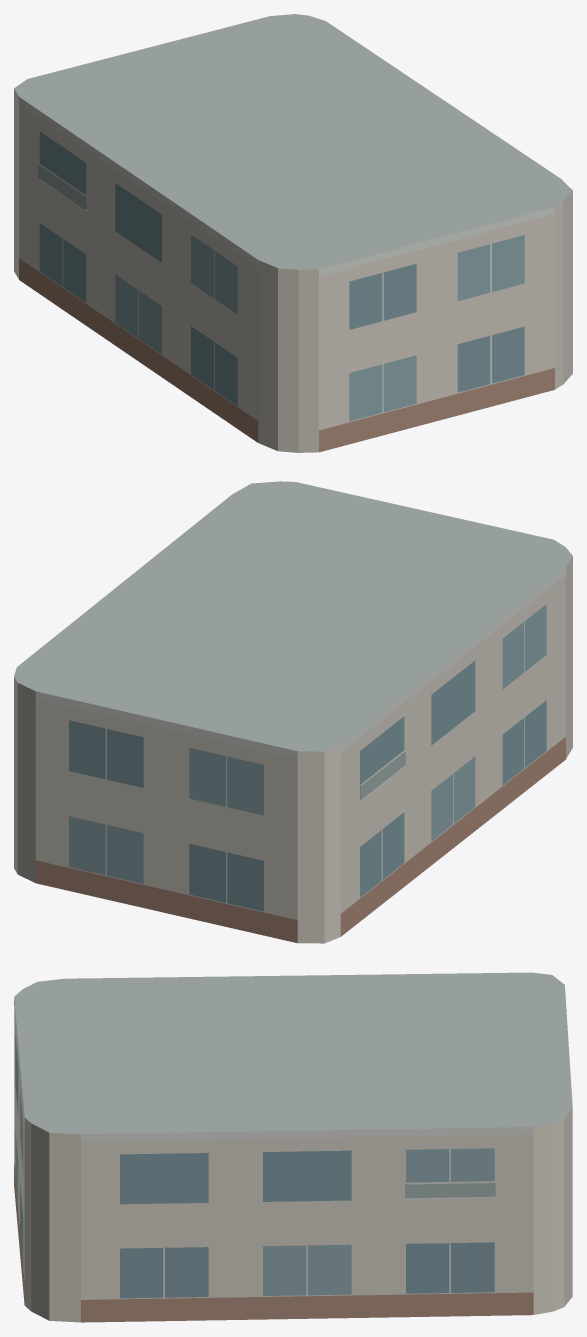
The model's file is survey-upis-32728675.glb.
3 views of the same model, one above another, from view 1: azimuth 30°, elevation 25°; view 2: azimuth 150°, elevation 25°; view 3: azimuth 270°, elevation 25° (orthographic). The views are drawn at different scales.
Parts seen in each view (by area): view 1: survey-upis-32728675.tmp; view 2: survey-upis-32728675.tmp; view 3: survey-upis-32728675.tmp.
Part boxes in pixels (x1=…): survey-upis-32728675.tmp: x1=14, y1=14, x2=572, y2=452; survey-upis-32728675.tmp: x1=14, y1=481, x2=572, y2=943; survey-upis-32728675.tmp: x1=14, y1=972, x2=572, y2=1322.
Size of the model in its own units: 11.25 by 6.1 by 16.42.
